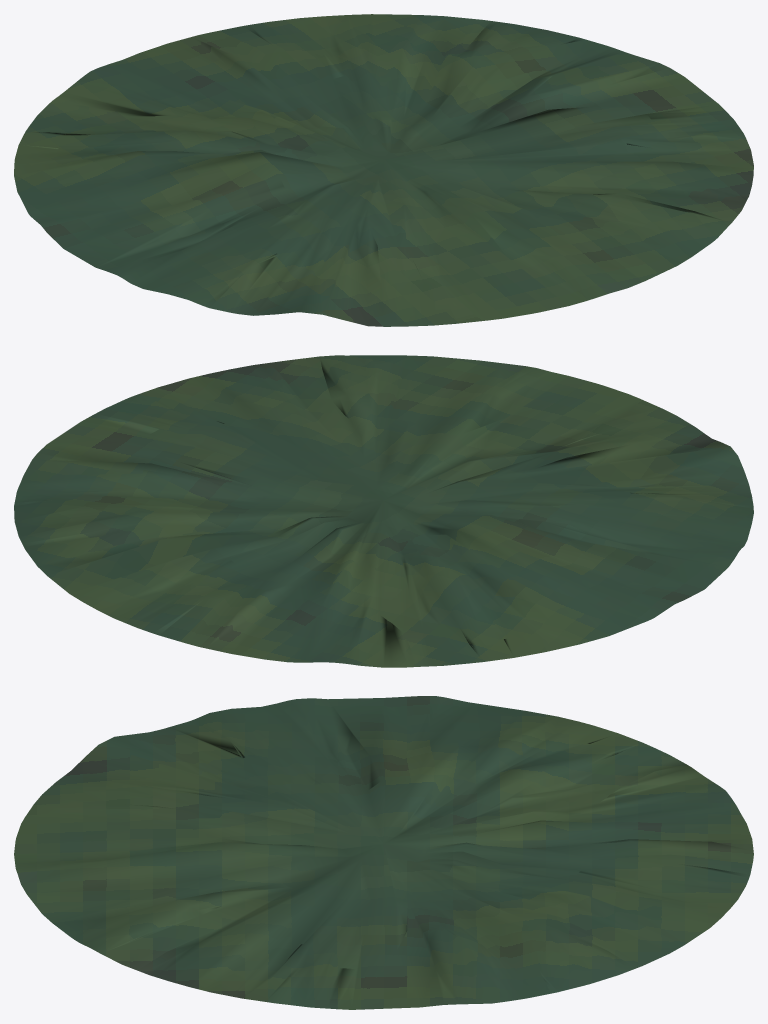
Rendered from floor.glb.
3 renders of one model, top to bottom at view 1: azimuth 30°, elevation 25°; view 2: azimuth 150°, elevation 25°; view 3: azimuth 270°, elevation 25°, orthographic.
Parts seen in each view (by area): view 1: Circle; view 2: Circle; view 3: Circle.
Boxes of the visible parts, left/top/right/bottom form: Circle: left=14, top=14, right=753, bottom=326; Circle: left=14, top=355, right=753, bottom=667; Circle: left=14, top=696, right=753, bottom=1009.
Size of the model in its own units: 29.94 by 1.11 by 30.
Materials: 1 (1 with a texture image).
